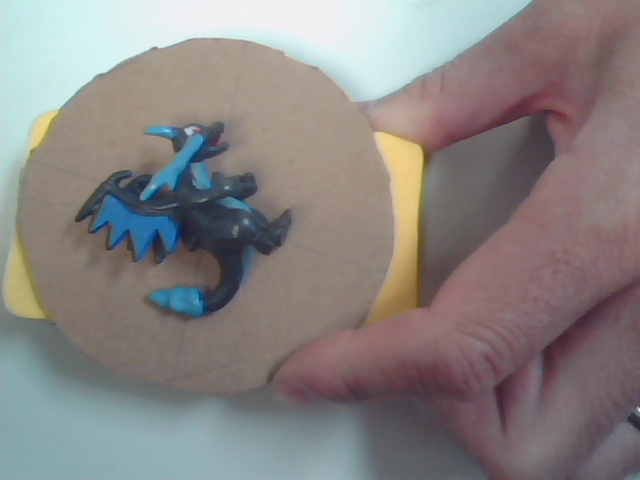charizard: (84, 105, 322, 333)
